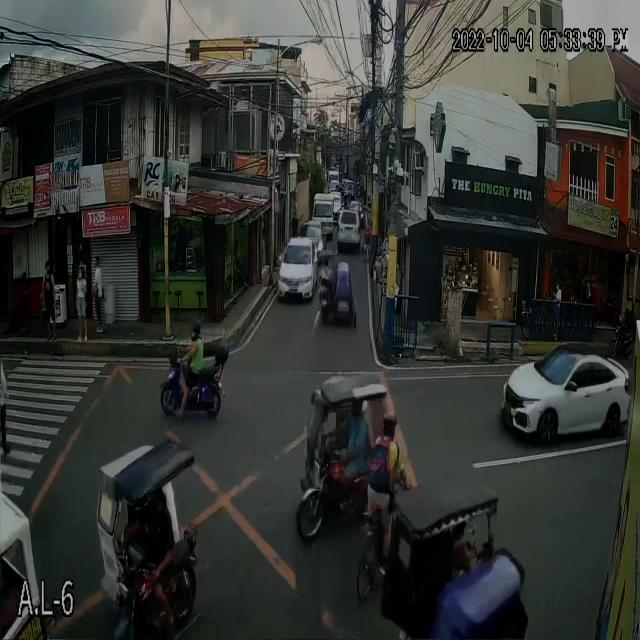Full-Faced: (185, 317, 202, 340)
